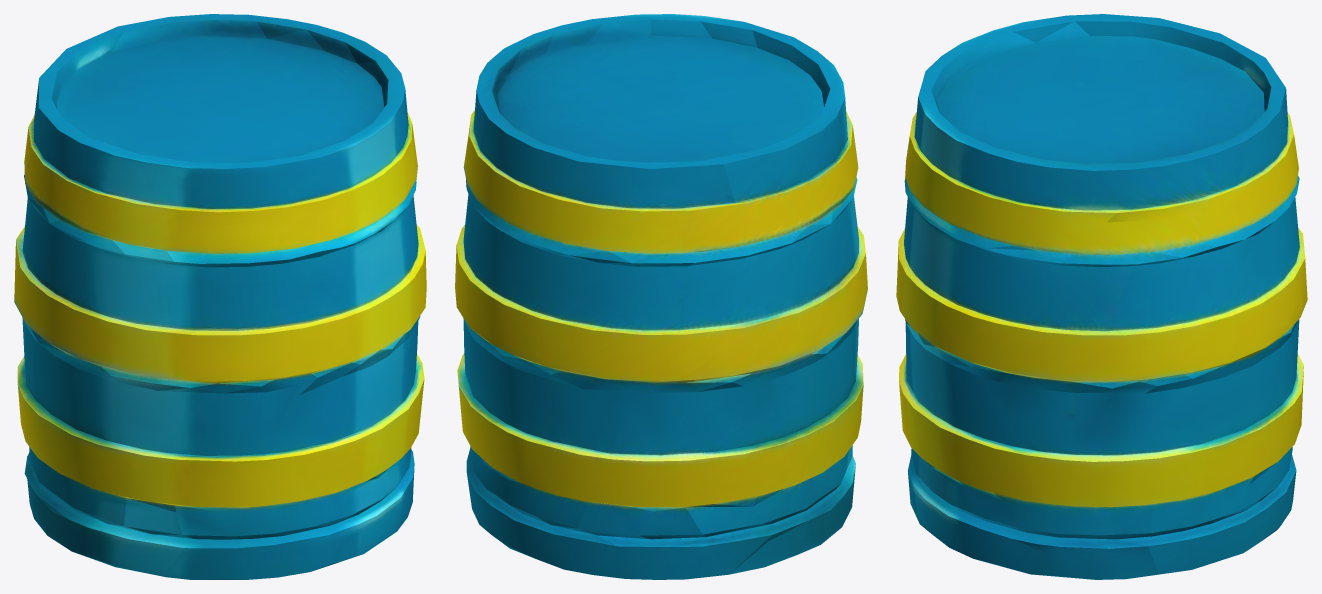
File: barrel.glb
The picture shows the model from 3 angles, left to right: view 1: azimuth 30°, elevation 25°; view 2: azimuth 150°, elevation 25°; view 3: azimuth 270°, elevation 25°; orthographic projection.
Visible parts, largest first — view 1: model; view 2: model; view 3: model.
Part boxes in pixels (x1,y1,x2,y2): model: [14, 14, 426, 579]; model: [455, 14, 867, 579]; model: [896, 14, 1307, 579].
Bounding box in the file's own units: 1.74 × 1.9 × 1.74.
Materials: 1 (1 with a texture image).
